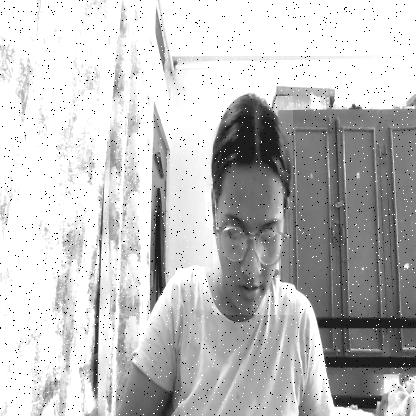Distracted: (214, 96, 294, 315)
